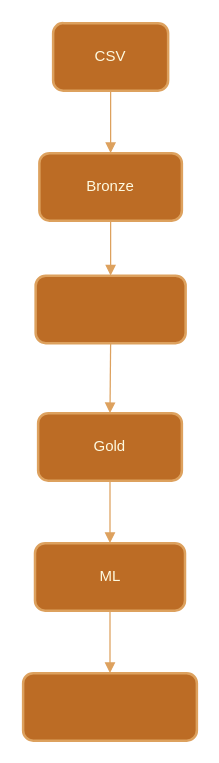
Some shapes in this 219 by 763 pixel diagram are drawn without their labels. Each missing label, with the centre of its shape:
"Dashboard" goes at pixel 109 706.
"Silver" goes at pixel 110 309.
